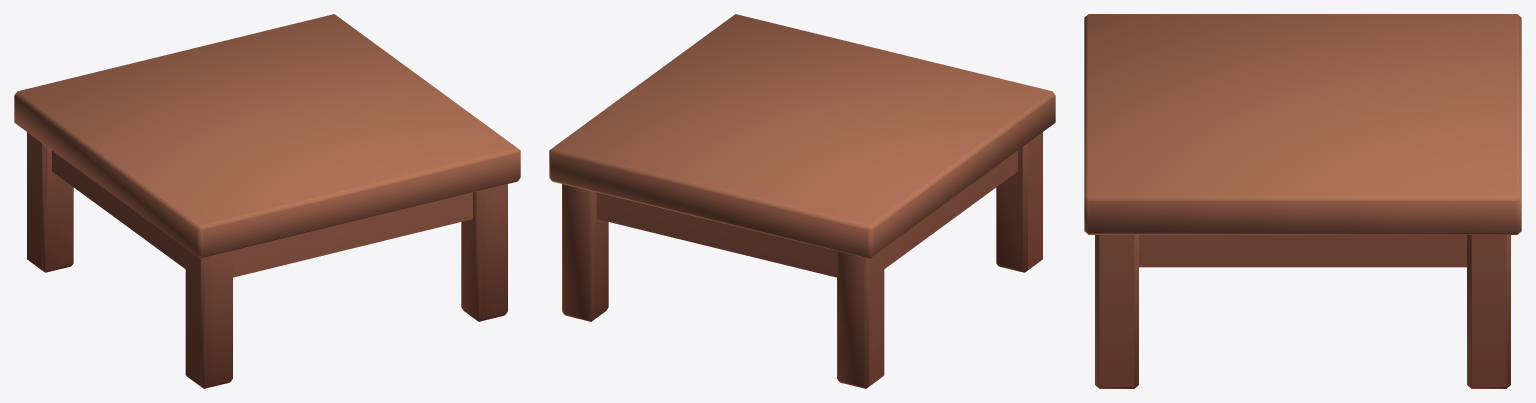
File: table.glb
3 renders of one model, left to right at view 1: azimuth 30°, elevation 25°; view 2: azimuth 150°, elevation 25°; view 3: azimuth 270°, elevation 25°, orthographic. The views are drawn at different scales.
Visible parts, largest first — view 1: table_medium; view 2: table_medium; view 3: table_medium.
Part boxes in pixels (left/top/right/bottom): table_medium: left=14, top=14, right=520, bottom=388; table_medium: left=549, top=14, right=1055, bottom=388; table_medium: left=1084, top=14, right=1521, bottom=388.
Size of the model in its own units: 1.5 by 0.7501 by 1.5.
1 material, 1 textured.
